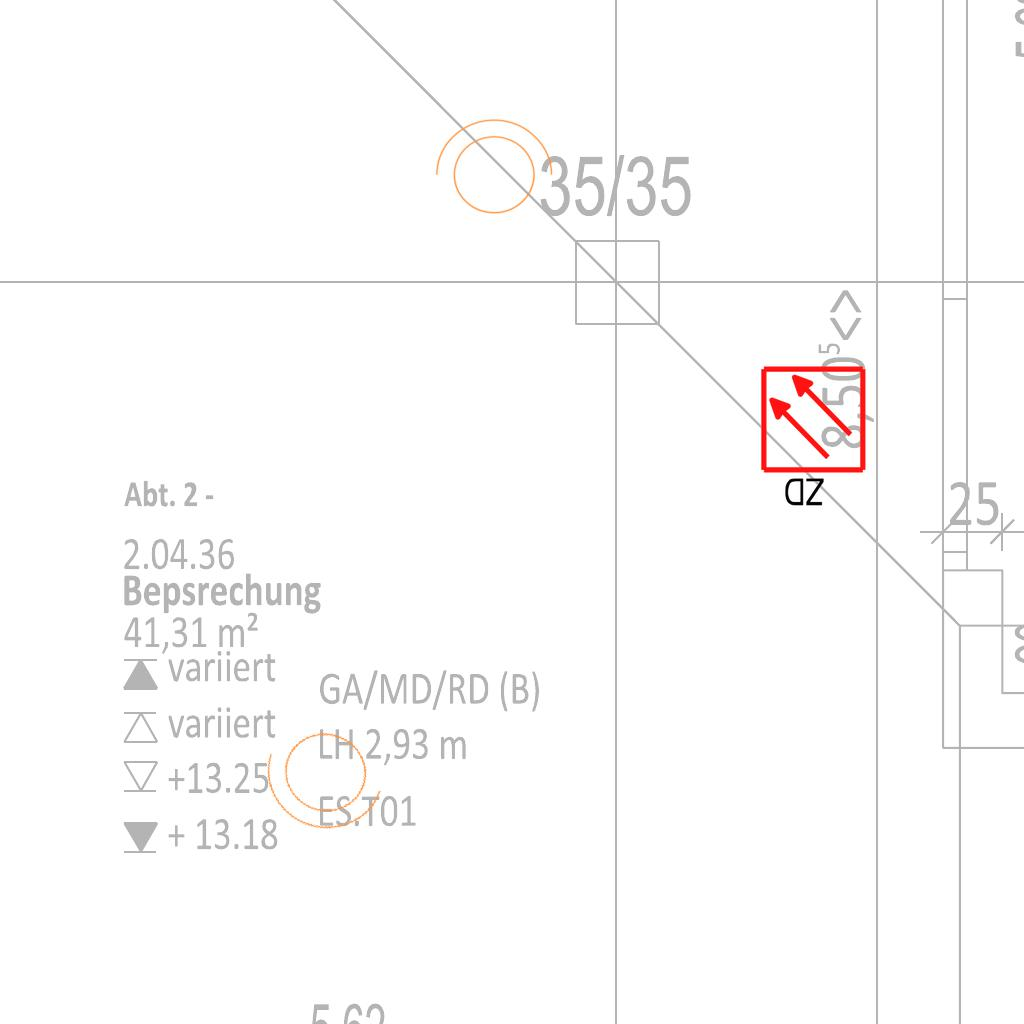Scheinwerfer_fuer_Alarmbeleuchtung: (246, 703, 408, 853), (425, 114, 557, 226)
ZD_Melder_in_Zwischendecke_mit_Revisionsoeffnung_mind_40_x_40_cm: (758, 364, 872, 513)
